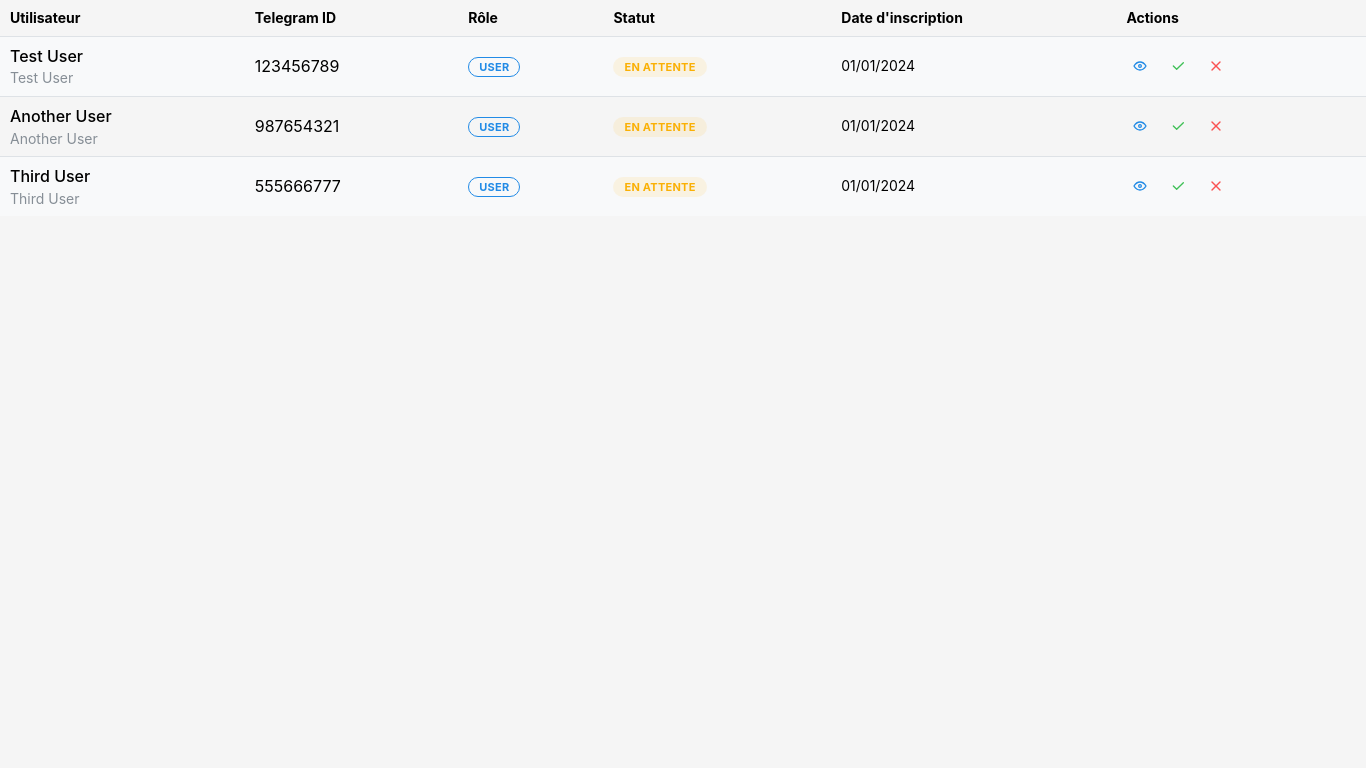
Test: PendingUsersTable › Modal de rejet › ouvre le modal de rejet quand on clique sur l'icône de rejet
Click the button with test id "reject-user-1" at (1216, 66), box [1202,52,1230,80]
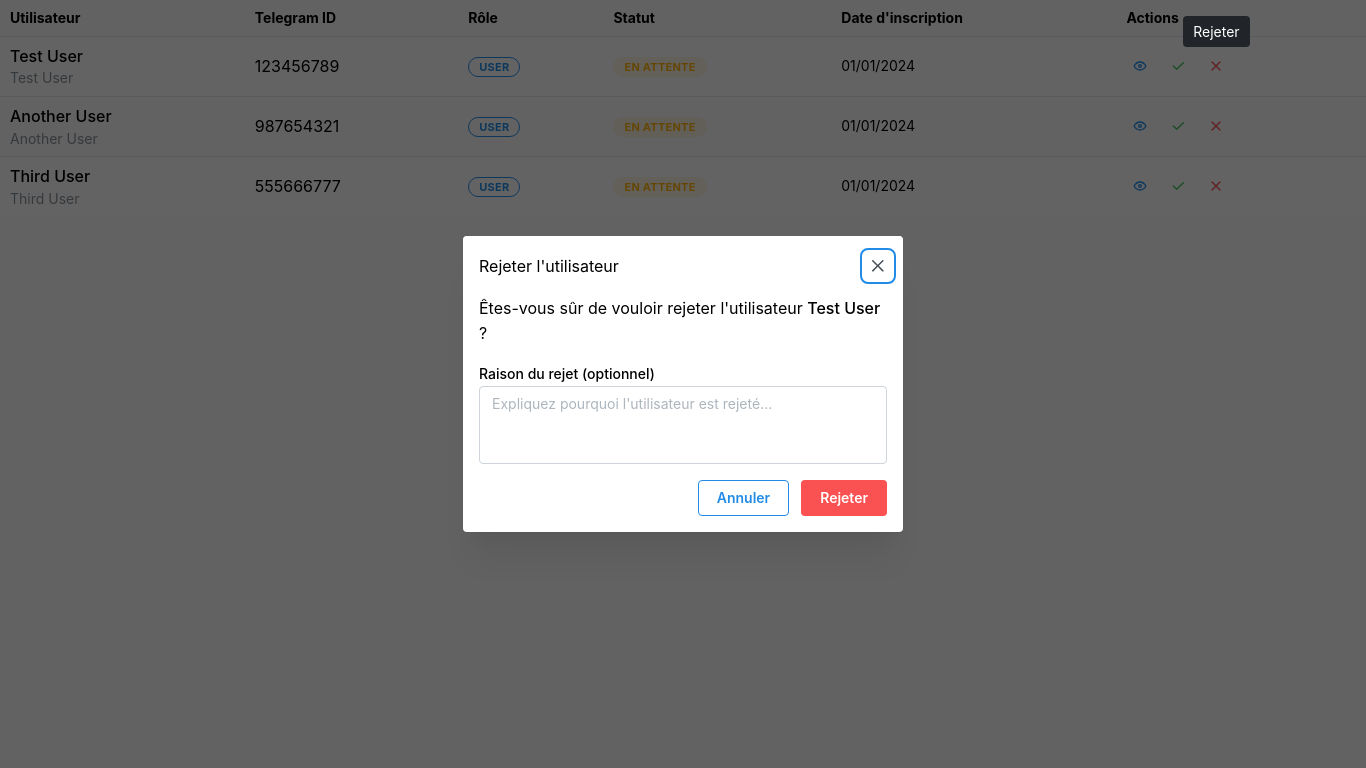
Now the dialog "Rejeter l'utilisateur" is shown, box [463,236,903,532]
Now the text "Test User" is shown, box [807,298,880,318]
Now the button "Rejeter" is shown, box [820,489,868,506]
